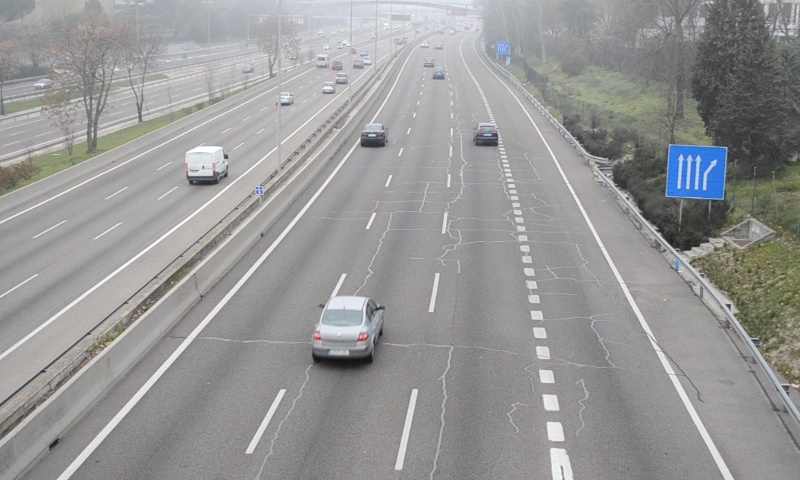car: (312, 297, 383, 361), (360, 122, 386, 146), (474, 122, 499, 145)
